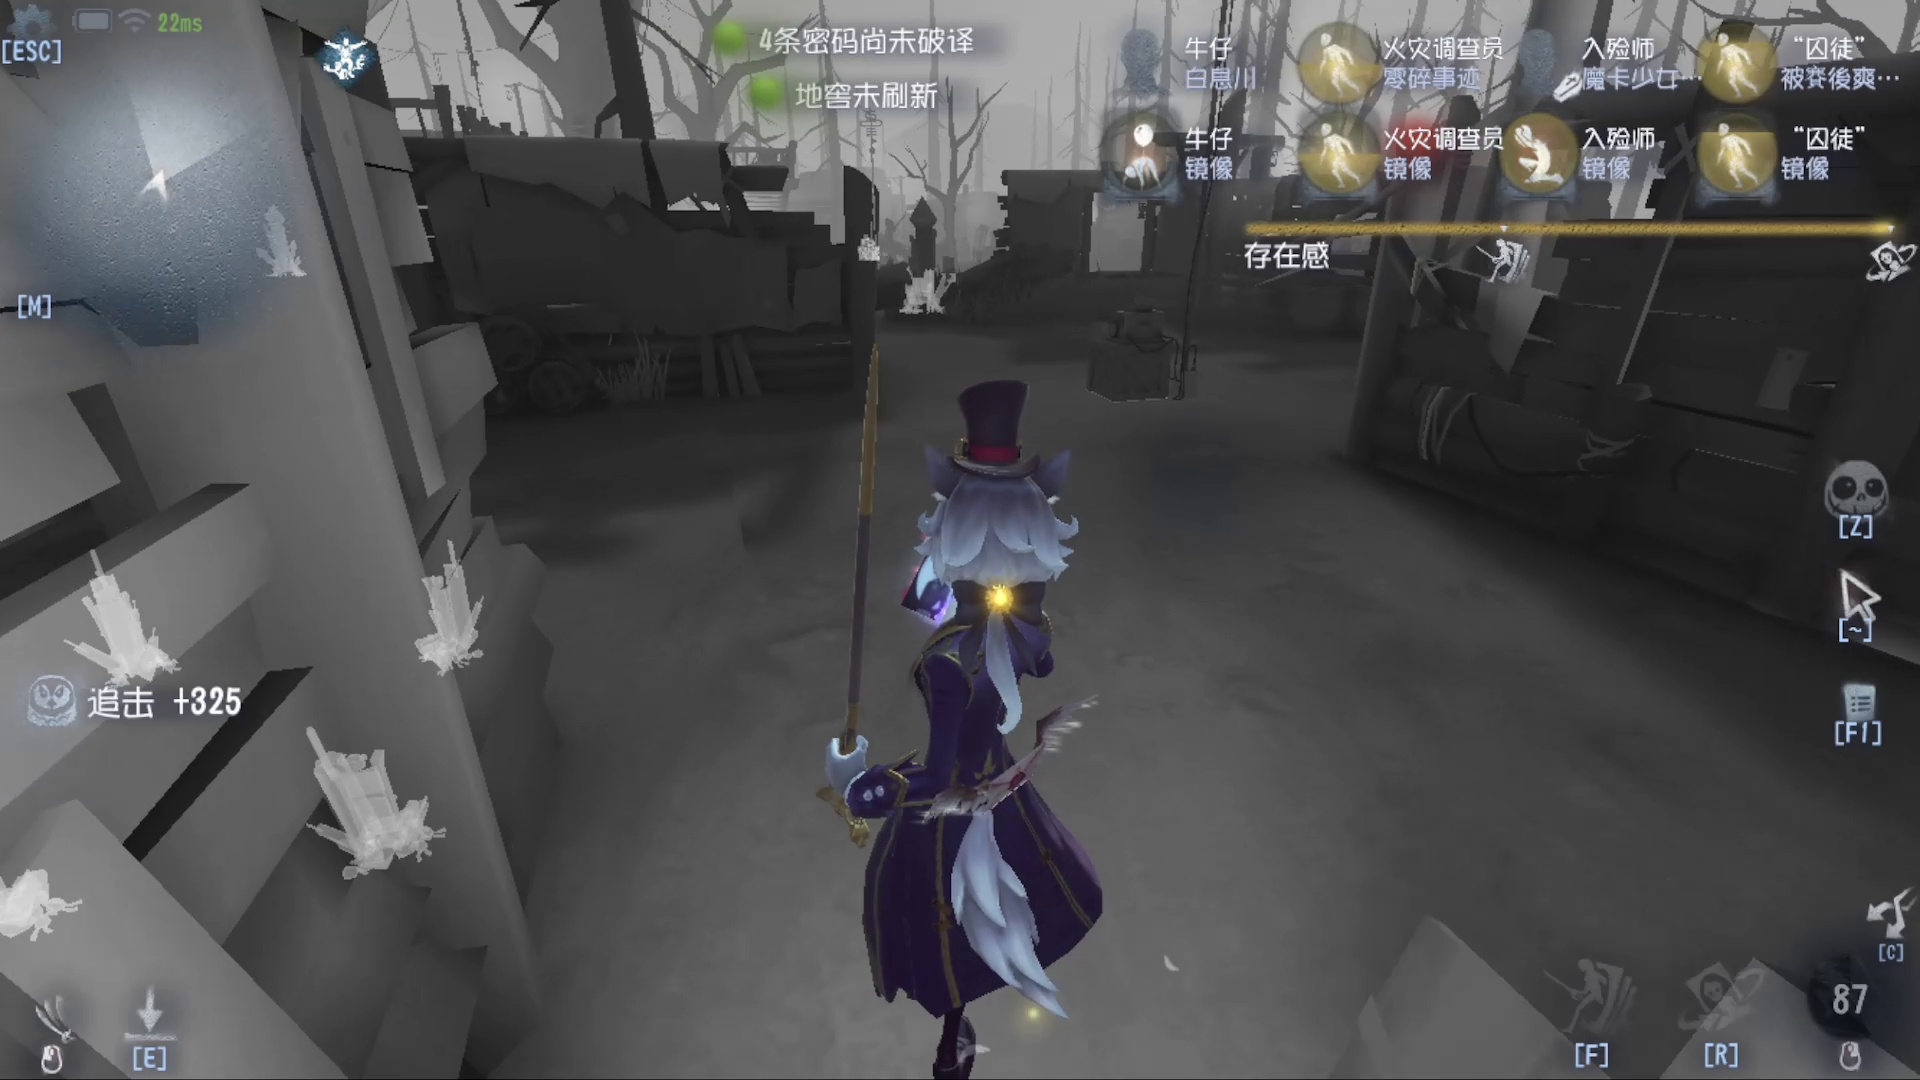密码机: (1067, 237, 1203, 435)
狂欢之椅: (862, 177, 963, 349)
